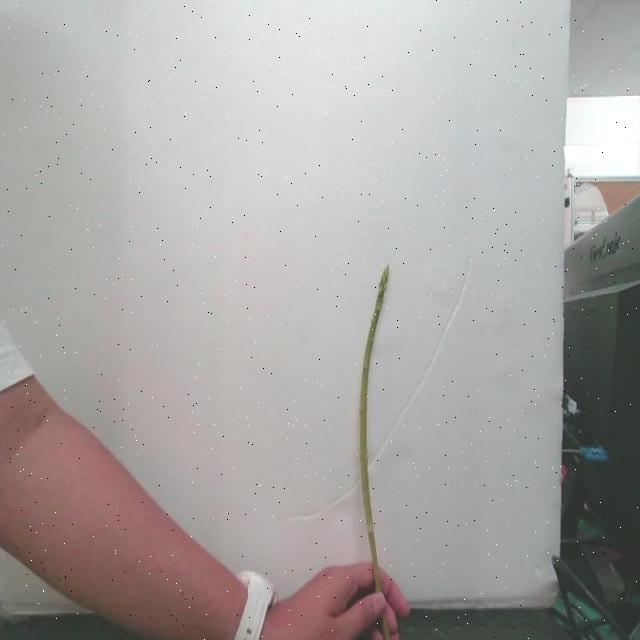aspargus: (359, 267, 391, 595)
